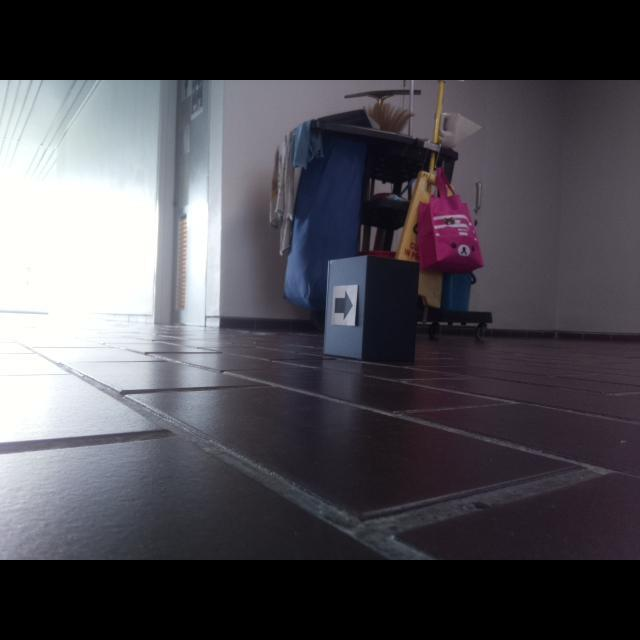RIGHT: (333, 288, 354, 322)
